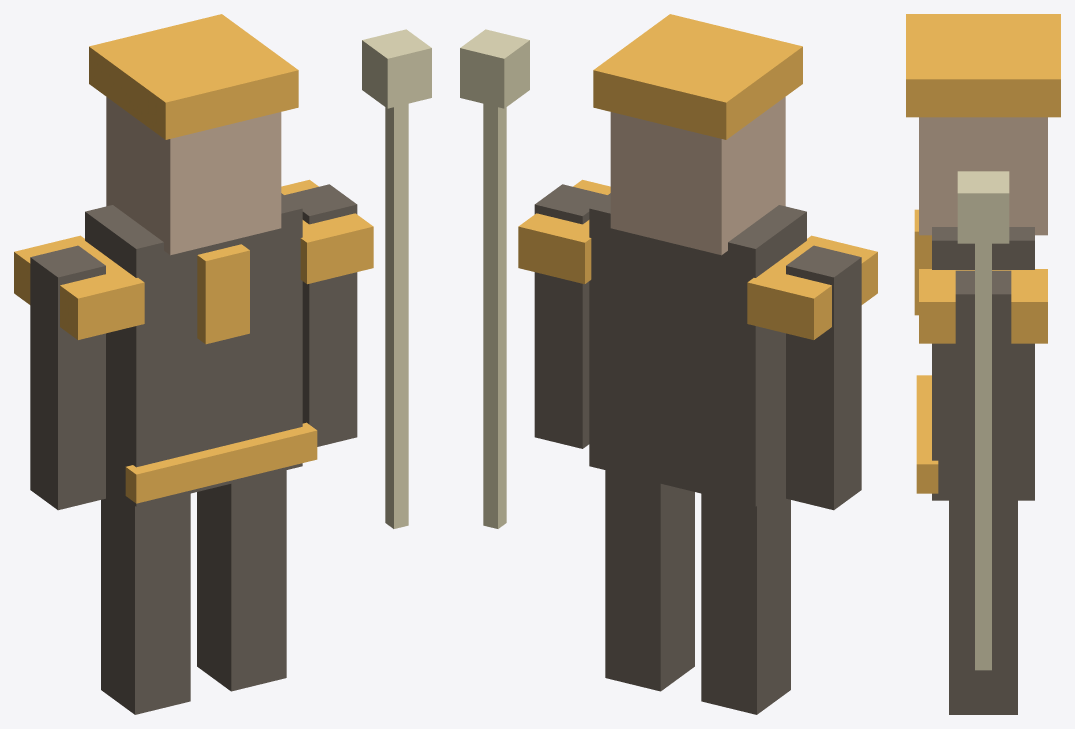
The model's file is 02_lio_wayfare_scout_near_quarantine.glb.
3 views of the same model, side by side, from view 1: azimuth 30°, elevation 25°; view 2: azimuth 150°, elevation 25°; view 3: azimuth 270°, elevation 25° (orthographic).
Visible parts, largest first — view 1: Lio Wayfare, Scout near Quarantine; view 2: Lio Wayfare, Scout near Quarantine; view 3: Lio Wayfare, Scout near Quarantine.
Part boxes in pixels (x1,y1,x2,y2): Lio Wayfare, Scout near Quarantine: (14, 14, 431, 714); Lio Wayfare, Scout near Quarantine: (460, 14, 877, 714); Lio Wayfare, Scout near Quarantine: (906, 14, 1060, 714).
Bounding box in the file's own units: 1.07 × 1.7 × 0.3788.
